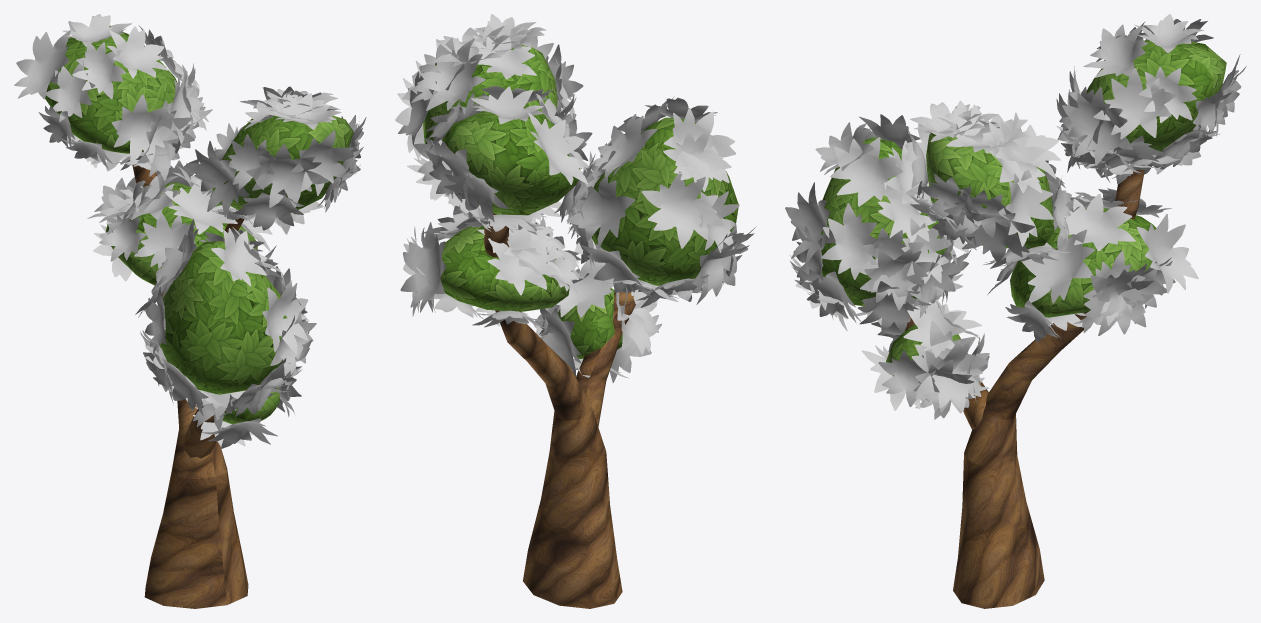
The model's file is tree_04.fbx.
3 views of the same model, side by side, from view 1: azimuth 30°, elevation 25°; view 2: azimuth 150°, elevation 25°; view 3: azimuth 270°, elevation 25° (orthographic). The views are drawn at different scales.
Visible parts, largest first — view 1: tree_04; view 2: tree_04; view 3: tree_04.
Boxes of the visible parts, x1,y1,x2,y2 form: tree_04: (14,14,366,608); tree_04: (395,14,756,608); tree_04: (785,14,1246,608).
Size of the model in its own units: 40.7 by 76.68 by 58.29.
